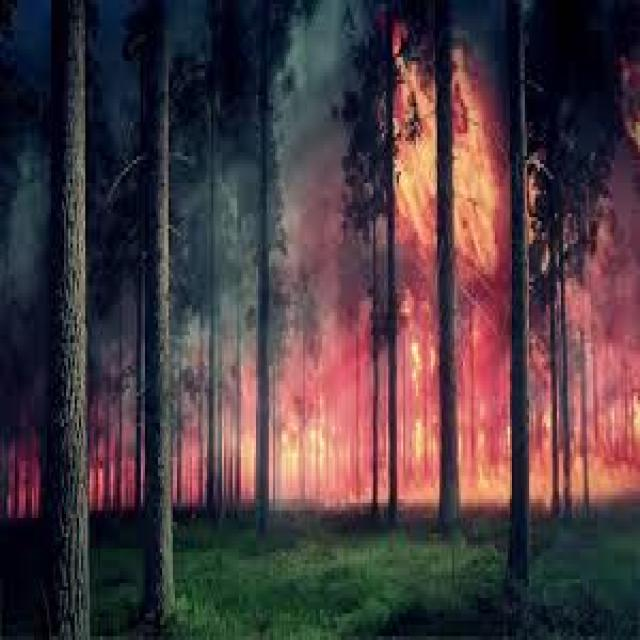Fire: (394, 44, 501, 262), (450, 366, 565, 503), (279, 394, 374, 510), (578, 314, 632, 488), (394, 375, 434, 490), (224, 412, 258, 499)
Smoke: (250, 0, 367, 285), (505, 10, 630, 256), (190, 147, 252, 260)
